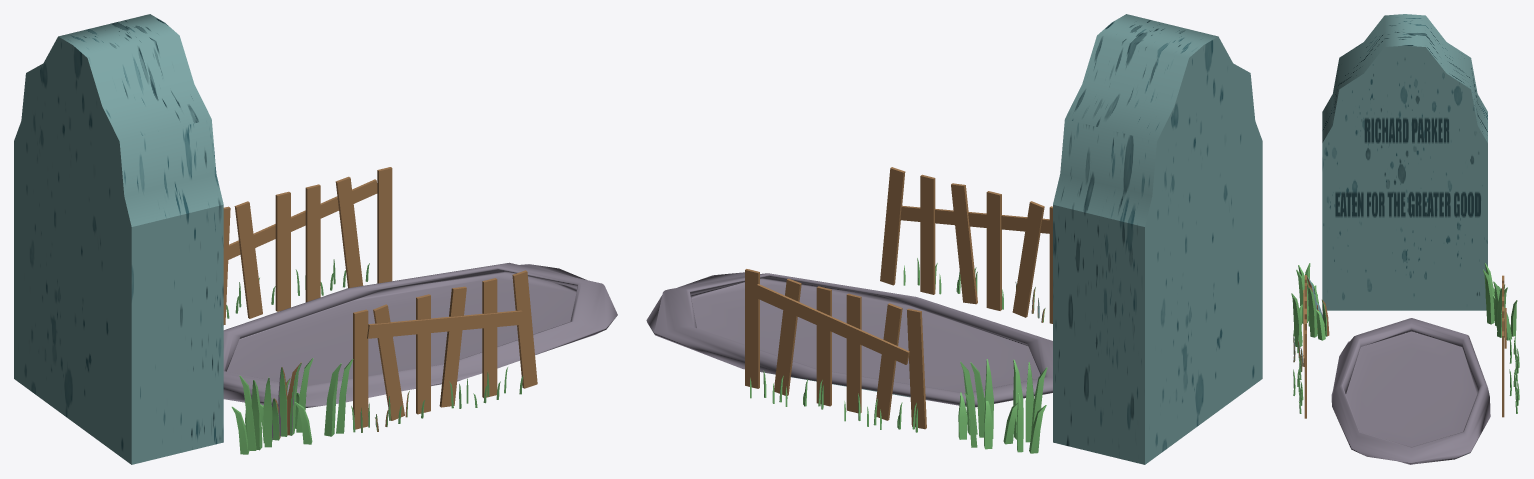
The model's file is grave.fbx.
3 renders of one model, left to right at view 1: azimuth 30°, elevation 25°; view 2: azimuth 150°, elevation 25°; view 3: azimuth 270°, elevation 25°, orthographic. The views are drawn at different scales.
Visible parts, largest first — view 1: pCube1, pCube29, pCube42, pCube39, pCube38, pCube36, pCube40, pCube30, pCube35, pCube37, pCube33, pCube34 (+5 smaller); view 2: pCube1, pCube29, pCube43, pCube32, pCube34, pCube33, pCube35, pCube31, pCube41, pCube36, pCube39, pCube38 (+3 smaller); view 3: pCube1, pCube29, pCube28, pCube15, pCube81, pCube35, pCube36.
Boxes of the visible parts, x1,y1,x2,y2 form: pCube1: (14, 14, 223, 464); pCube29: (223, 262, 617, 407); pCube42: (367, 310, 522, 338); pCube39: (275, 191, 290, 311); pCube38: (305, 184, 320, 302); pCube36: (377, 167, 392, 283); pCube40: (234, 201, 262, 318); pCube30: (353, 309, 368, 429); pCube35: (512, 270, 537, 388); pCube37: (335, 176, 363, 287); pCube33: (439, 286, 466, 407); pCube34: (482, 278, 497, 397); pCube1: (1053, 14, 1262, 464); pCube29: (646, 272, 1052, 407); pCube43: (754, 284, 909, 364); pCube32: (986, 191, 1001, 310); pCube34: (920, 174, 935, 294); pCube33: (951, 183, 977, 304); pCube35: (880, 167, 905, 285); pCube31: (1012, 201, 1044, 317); pCube41: (907, 308, 926, 429); pCube36: (745, 269, 759, 388); pCube39: (846, 293, 861, 413); pCube38: (816, 286, 831, 406); pCube1: (1322, 14, 1487, 310); pCube29: (1331, 318, 1490, 464); pCube28: (1485, 274, 1494, 324); pCube15: (1309, 288, 1317, 337); pCube81: (1293, 298, 1302, 346); pCube35: (1304, 330, 1306, 418); pCube36: (1502, 331, 1504, 417).
Size of the model in its own units: 30.45 by 20.95 by 15.95.
1 material, 1 textured.
